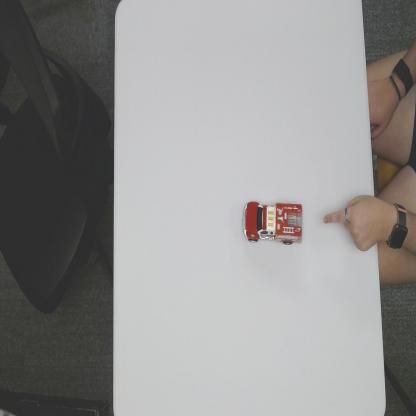Firetruck: (242, 197, 304, 249)
Hand: (323, 191, 385, 252)
